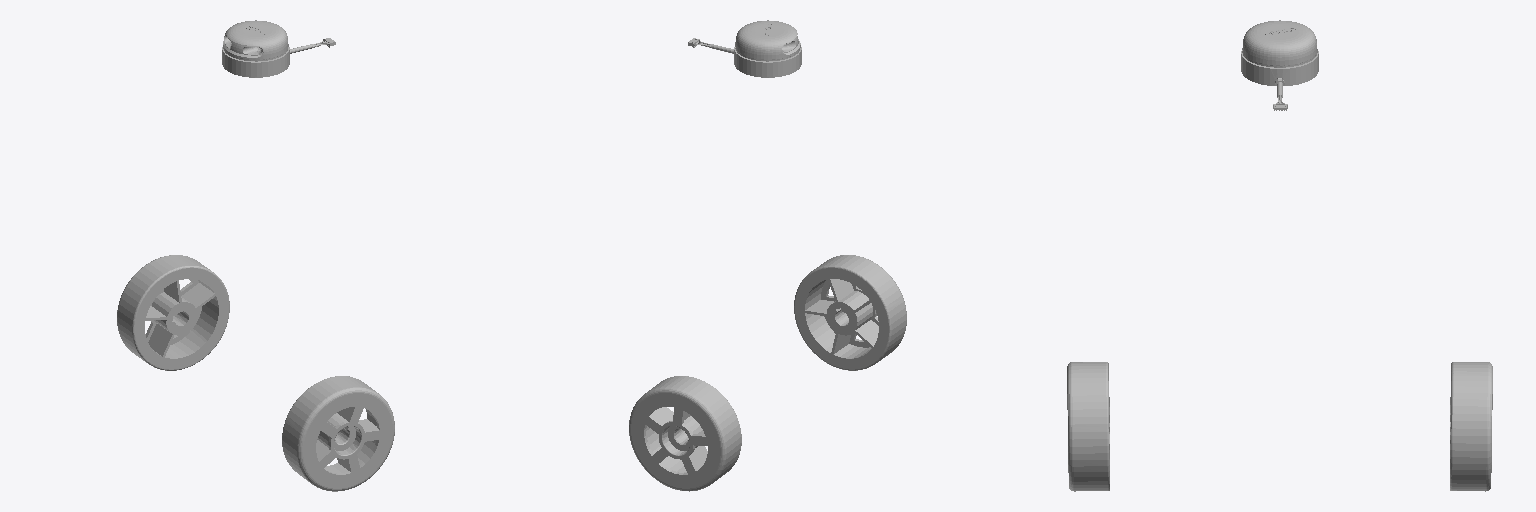
The robot description file, URDF, robot "aimibot":
<robot
  name="aimibot">
  <link name="base_footprint"/>
    <joint name="base_joint" type="fixed">
      <origin xyz="0 0 0.0102" rpy="0 0 0" />
      <parent link="base_footprint"/>
      <child link="base_link" />
    </joint>
  <link
    name="base_link">
    <inertial>
      <origin
        xyz="0.0011466 0.08357 -0.00067389"
        rpy="0 0 0" />
      <mass
        value="6.6966" />
      <inertia
        ixx="0.14317"
        ixy="-0.00031972"
        ixz="0.00068273"
        iyy="0.14797"
        iyz="-0.00012584"
        izz="0.18653" />
    </inertial>
    <visual>
      <origin
        xyz="0 0 0"
        rpy="0 0 0" />
      <geometry>
        <mesh
          filename="package://aimibot/meshes/base_link.STL" />
      </geometry>
      <material
        name="">
        <color
          rgba="0.75294 0.75294 0.75294 1" />
      </material>
    </visual>
    <collision>
      <origin
        xyz="0 0 0"
        rpy="0 0 0" />
      <geometry>
        <mesh
          filename="package://aimibot/meshes/base_link.STL" />
      </geometry>
    </collision>
  </link>
  <link
    name="wheel_left_link">
    <inertial>
      <origin
        xyz="2.4427E-06 -2.4575E-05 -0.020357"
        rpy="0 0 0" />
      <mass
        value="0.26665" />
      <inertia
        ixx="0.0003764"
        ixy="3.0786E-10"
        ixz="-9.5991E-10"
        iyy="0.00037648"
        iyz="4.4037E-08"
        izz="0.00067934" />
    </inertial>
    <visual>
      <origin
        xyz="0 0 0"
        rpy="0 0 0" />
      <geometry>
        <mesh
          filename="package://aimibot/meshes/wheel_left_link.STL" />
      </geometry>
      <material
        name="">
        <color
          rgba="0.75294 0.75294 0.75294 1" />
      </material>
    </visual>
    <collision>
      <origin
        xyz="0 0 0"
        rpy="0 0 0" />
      <geometry>
        <mesh
          filename="package://aimibot/meshes/wheel_left_link.STL" />
      </geometry>
    </collision>
  </link>
  <joint
    name="wheel_left_joint"
    type="continuous">
    <origin
      xyz="0 -0.164485734157727 0.000420907718167048"
      rpy="1.5543789313971 -0.401173413748992 -3.13518119121522" />
    <parent
      link="base_link" />
    <child
      link="wheel_left_link" />
    <axis
      xyz="0 0 -1" />
  </joint>
  <link
    name="wheel_right_link">
    <inertial>
      <origin
        xyz="2.421E-06 -2.4578E-05 -0.02256"
        rpy="0 0 0" />
      <mass
        value="0.26665" />
      <inertia
        ixx="0.00037639"
        ixy="3.3764E-10"
        ixz="-1.0254E-09"
        iyy="0.00037648"
        iyz="4.4035E-08"
        izz="0.00067933" />
    </inertial>
    <visual>
      <origin
        xyz="0 0 0"
        rpy="0 0 0" />
      <geometry>
        <mesh
          filename="package://aimibot/meshes/wheel_right_link.STL" />
      </geometry>
      <material
        name="">
        <color
          rgba="0.75294 0.75294 0.75294 1" />
      </material>
    </visual>
    <collision>
      <origin
        xyz="0 0 0"
        rpy="0 0 0" />
      <geometry>
        <mesh
          filename="package://aimibot/meshes/wheel_right_link.STL" />
      </geometry>
    </collision>
  </link>
  <joint
    name="wheel_right_joint"
    type="continuous">
    <origin
      xyz="0 0.162282644955071 0.000454207317838345"
      rpy="1.48583093998881 -1.39175190584411 0.0836135299332929" />
    <parent
      link="base_link" />
    <child
      link="wheel_right_link" />
    <axis
      xyz="0 0 1" />
  </joint>
  <link
    name="laser_link">
    <inertial>
      <origin
        xyz="-0.0071364 0.028563 0.076176"
        rpy="0 0 0" />
      <mass
        value="0.043541" />
      <inertia
        ixx="2.3815E-05"
        ixy="2.7129E-06"
        ixz="3.3495E-07"
        iyy="3.9869E-05"
        iyz="-5.2368E-07"
        izz="3.0337E-05" />
    </inertial>
    <visual>
      <origin
        xyz="0 0 0"
        rpy="0 0 0" />
      <geometry>
        <mesh
          filename="package://aimibot/meshes/laser_link.STL" />
      </geometry>
      <material
        name="">
        <color
          rgba="0.75294 0.75294 0.75294 1" />
      </material>
    </visual>
    <collision>
      <origin
        xyz="0 0 0"
        rpy="0 0 0" />
      <geometry>
        <mesh
          filename="package://aimibot/meshes/laser_link.STL" />
      </geometry>
    </collision>
  </link>
  <joint
    name="laser_joint"
    type="fixed">
    <origin
      xyz="0.0060269 0.075 0.37143"
      rpy="1.5708 0 0" />
    <parent
      link="base_link" />
    <child
      link="laser_link" />
    <axis
      xyz="0 0 0" />
  </joint>
</robot>

--- What the picture shows (computed from the rendered views, not written in the file) ---
3 views of the same robot in one strip: view 1: azimuth 30°, elevation 25°; view 2: azimuth 150°, elevation 25°; view 3: azimuth 270°, elevation 25° (orthographic).
Robot: aimibot — 5 links, 4 joints (2 continuous, 2 fixed); root link base_footprint; default pose: every joint at zero.
Links seen in each view (by area): view 1: wheel_right_link, wheel_left_link, laser_link; view 2: wheel_left_link, wheel_right_link, laser_link; view 3: wheel_left_link, wheel_right_link, laser_link.
Boxes of the visible links, x1,y1,x2,y2 form: wheel_right_link: (117,255,229,370); wheel_left_link: (282,376,394,491); laser_link: (222,20,335,77); wheel_left_link: (794,255,906,370); wheel_right_link: (629,376,741,491); laser_link: (688,20,801,77); wheel_left_link: (1067,362,1109,491); wheel_right_link: (1450,362,1492,491); laser_link: (1241,20,1318,110).
Bounding box of the posed robot: 0.1612 × 0.4107 × 0.483 m (x, y, z).
3 mesh visuals loaded from 4 distinct referenced files (3 binary STL); not drawn: 1 (reference not matched to a file when rendering).